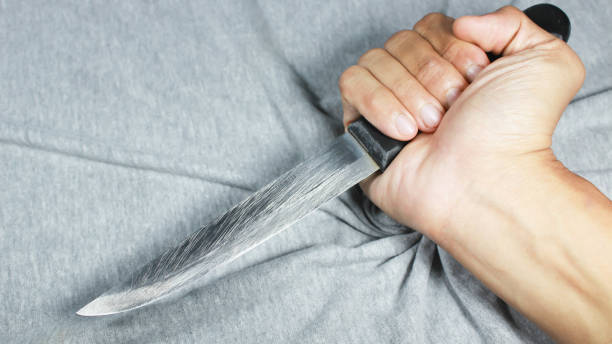knife: (75, 2, 572, 315)
